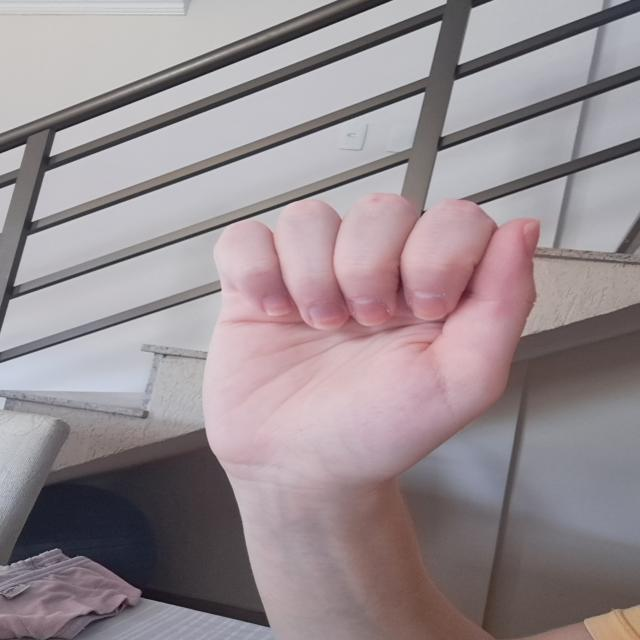A: (193, 190, 549, 465)
